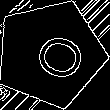O_W: (18, 24, 83, 83)
